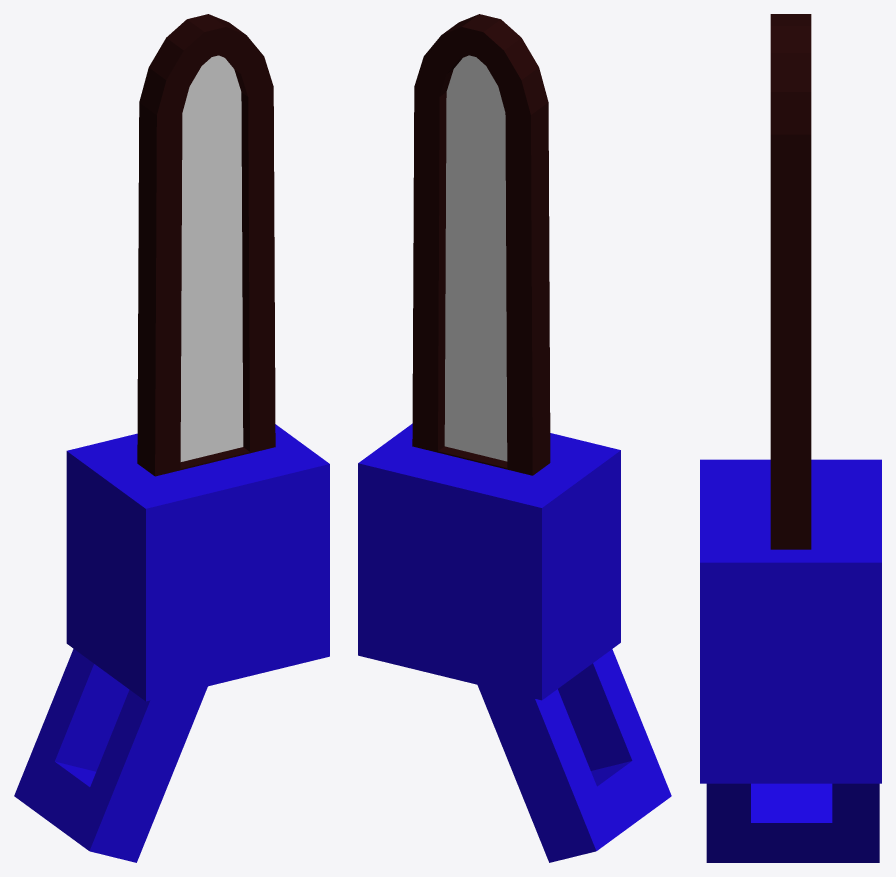
Rendered from chainsaw.glb.
3 views of the same model, side by side, from view 1: azimuth 30°, elevation 25°; view 2: azimuth 150°, elevation 25°; view 3: azimuth 270°, elevation 25° (orthographic). The views are drawn at different scales.
Visible parts, largest first — view 1: Cube.029, Cube.031, Cube.030; view 2: Cube.029, Cube.031, Cube.030; view 3: Cube.029, Cube.031, Cube.030.
Part boxes in pixels (x1,y1,x2,y2): Cube.029: (66,424,329,701); Cube.031: (137,14,275,476); Cube.030: (14,648,207,862); Cube.029: (358,423,620,700); Cube.031: (412,14,550,475); Cube.030: (477,649,671,862); Cube.029: (700,459,881,783); Cube.031: (770,14,811,549); Cube.030: (706,783,879,862).
Size of the model in its own units: 0.9631 by 3.05 by 0.5563.
